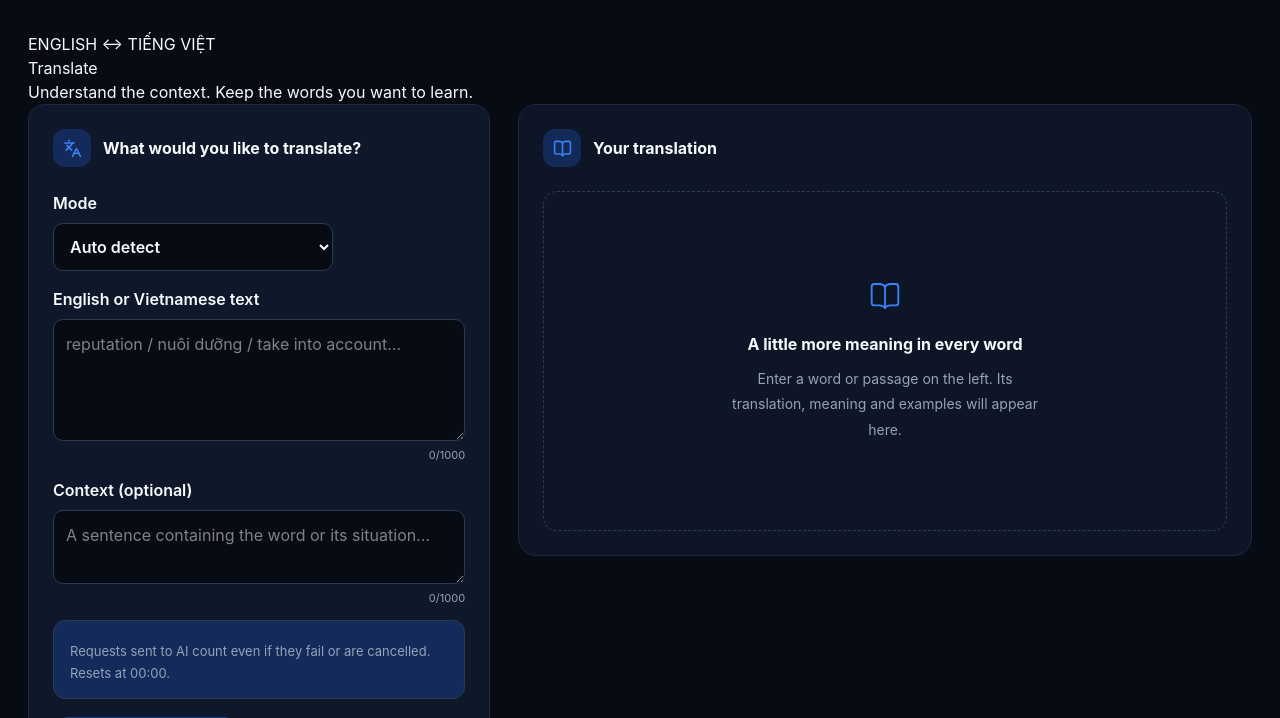
Test: submits Vietnamese text and context and displays the English vocabulary result
Type "nuôi dưỡng" into the text box labelled "English or Vietnamese text" at (259,380), box [53,319,465,441]
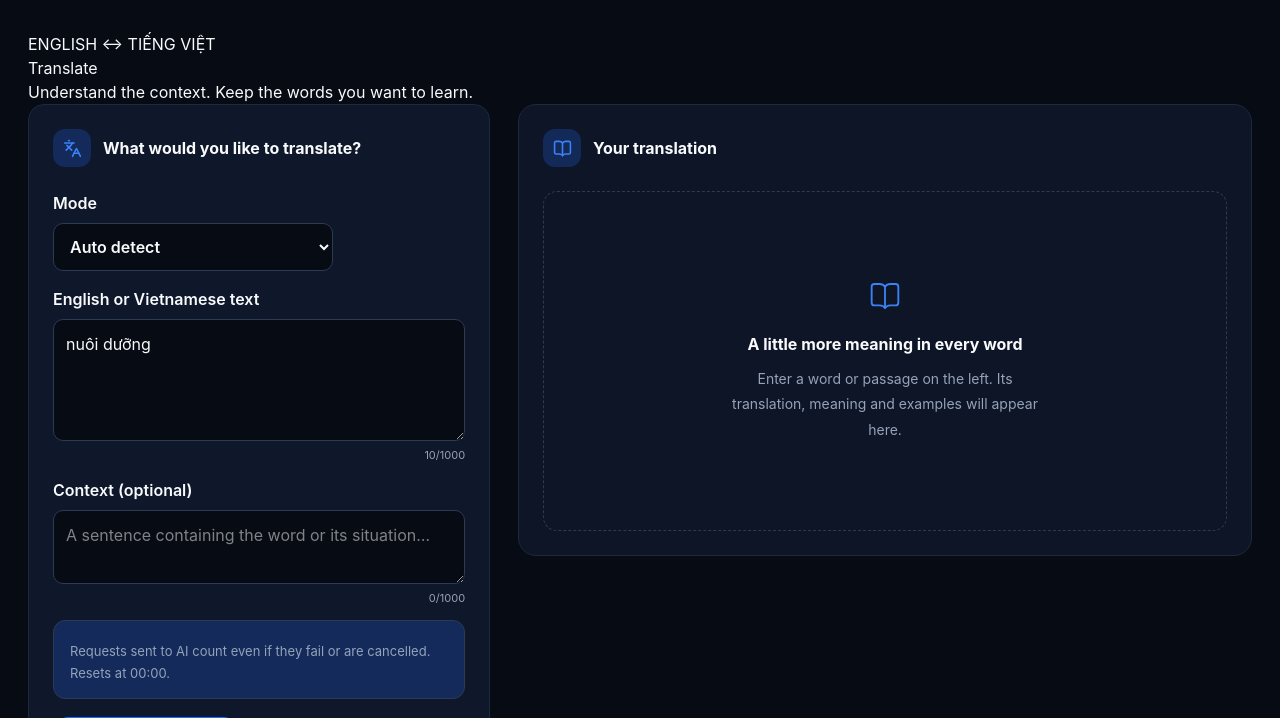
Type "nuôi dưỡng tài năng của trẻ" into the text box labelled "Context (optional)" at (259,546), box [53,510,465,584]
(page scrolled)
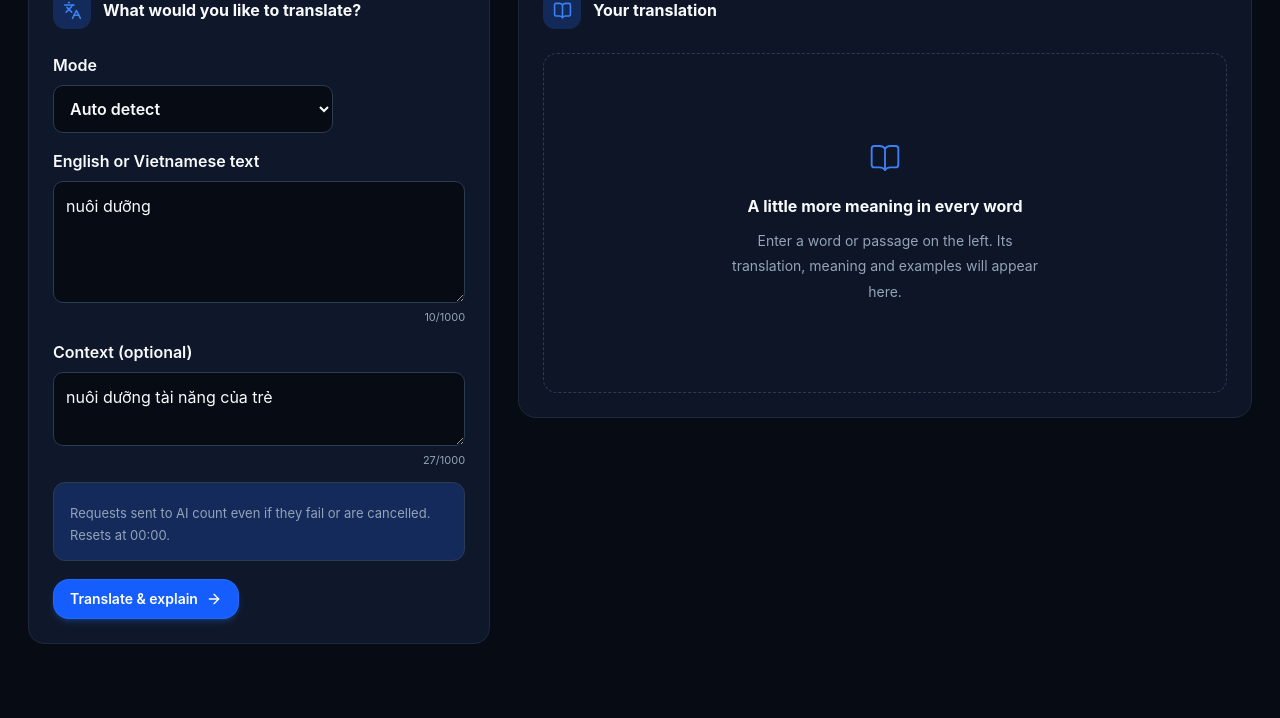
Click the button "Translate & explain" at (146,599), box [53,579,239,619]
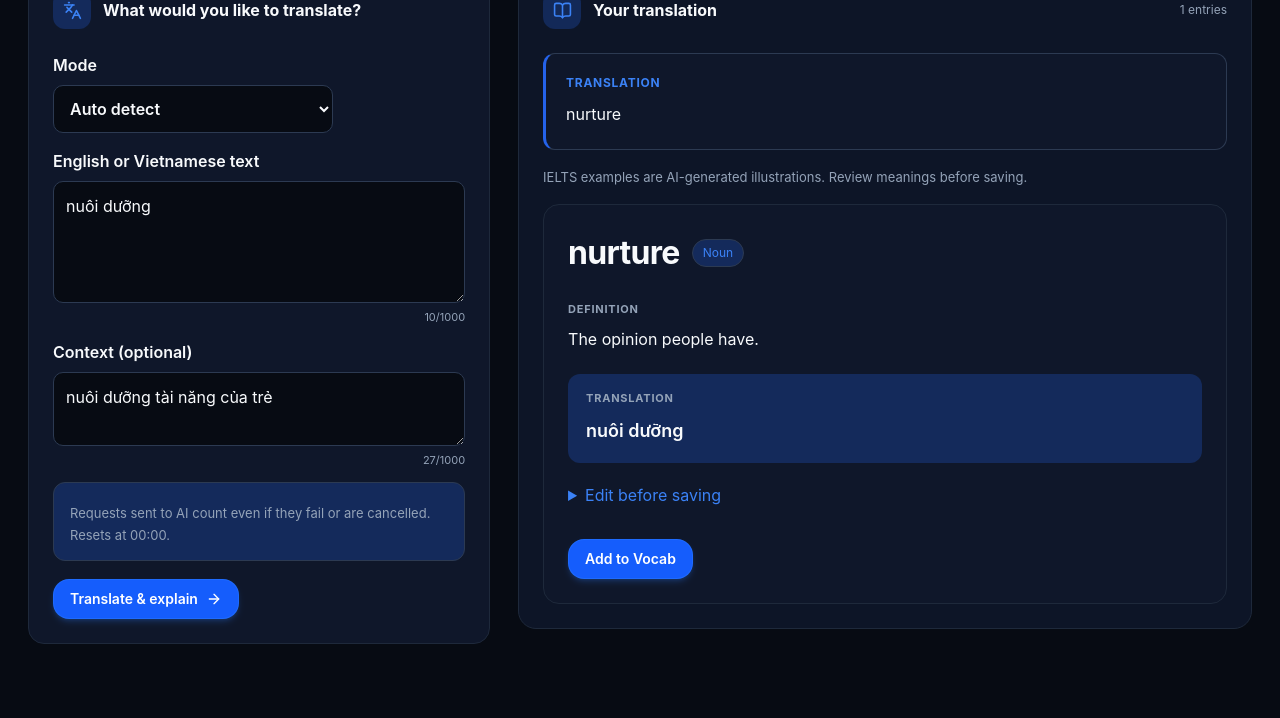
Check: the heading "nurture" is shown, box [568,229,680,277]
